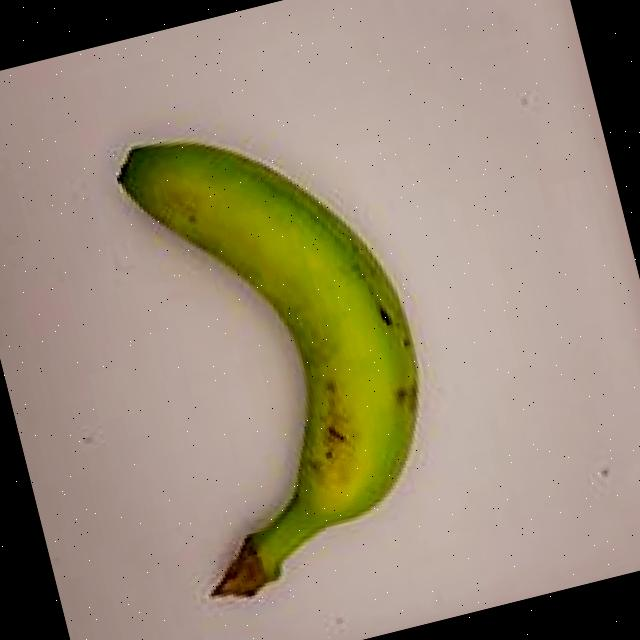Unripe: (55, 51, 502, 640)
